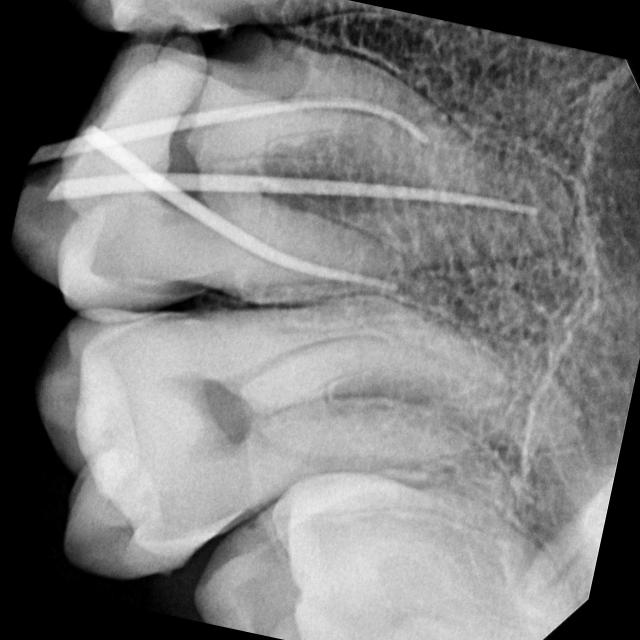Badly Decayed: (0, 22, 263, 304)
Normal: (17, 292, 538, 594)
RCT: (39, 19, 593, 311)
